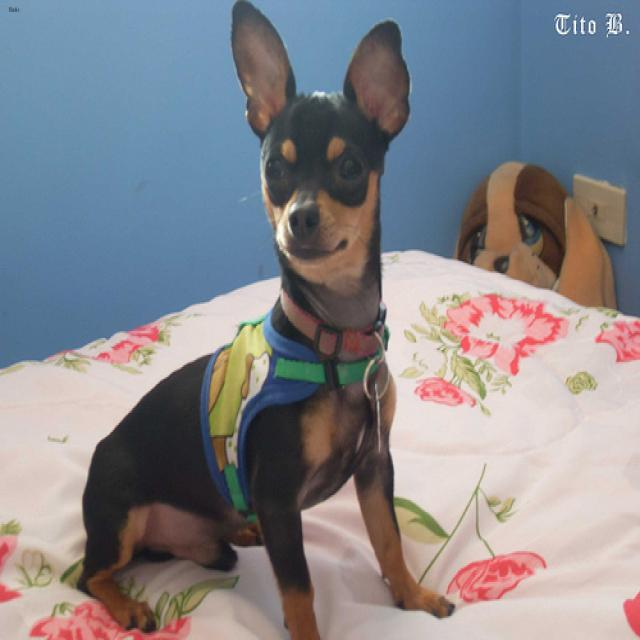dog-miniature_pinscher: (68, 2, 462, 637)
